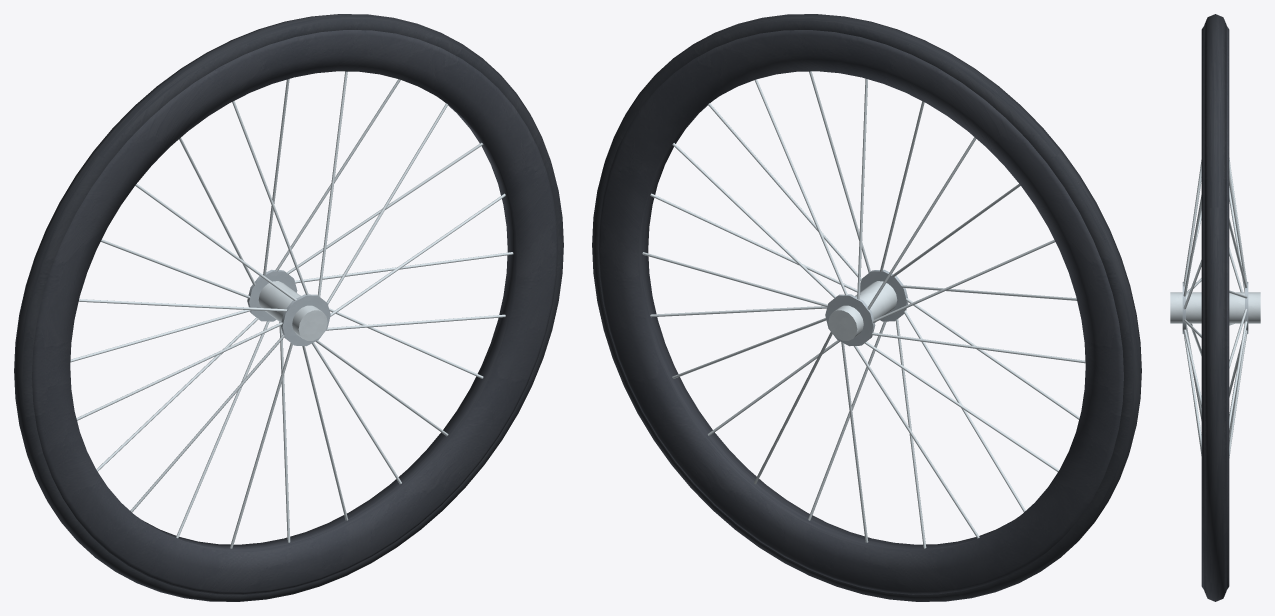
Rendered from wheel.glb.
3 renders of one model, left to right at view 1: azimuth 30°, elevation 25°; view 2: azimuth 150°, elevation 25°; view 3: azimuth 270°, elevation 25°, orthographic. The views are drawn at different scales.
Visible parts, largest first — view 1: wheel; view 2: wheel; view 3: wheel.
Boxes of the visible parts, x1=… form: wheel: x1=14, y1=14, x2=563, y2=601; wheel: x1=592, y1=14, x2=1141, y2=601; wheel: x1=1170, y1=14, x2=1260, y2=601.
Size of the model in its own units: 0.68 by 0.68 by 0.104.
Materials: 1 (1 with a texture image).
